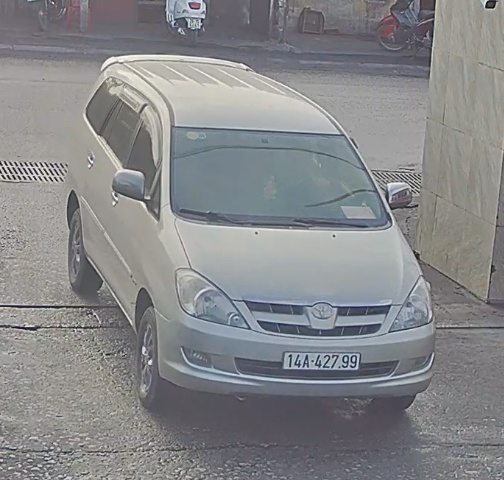vehicle plate: (278, 345, 365, 376)
